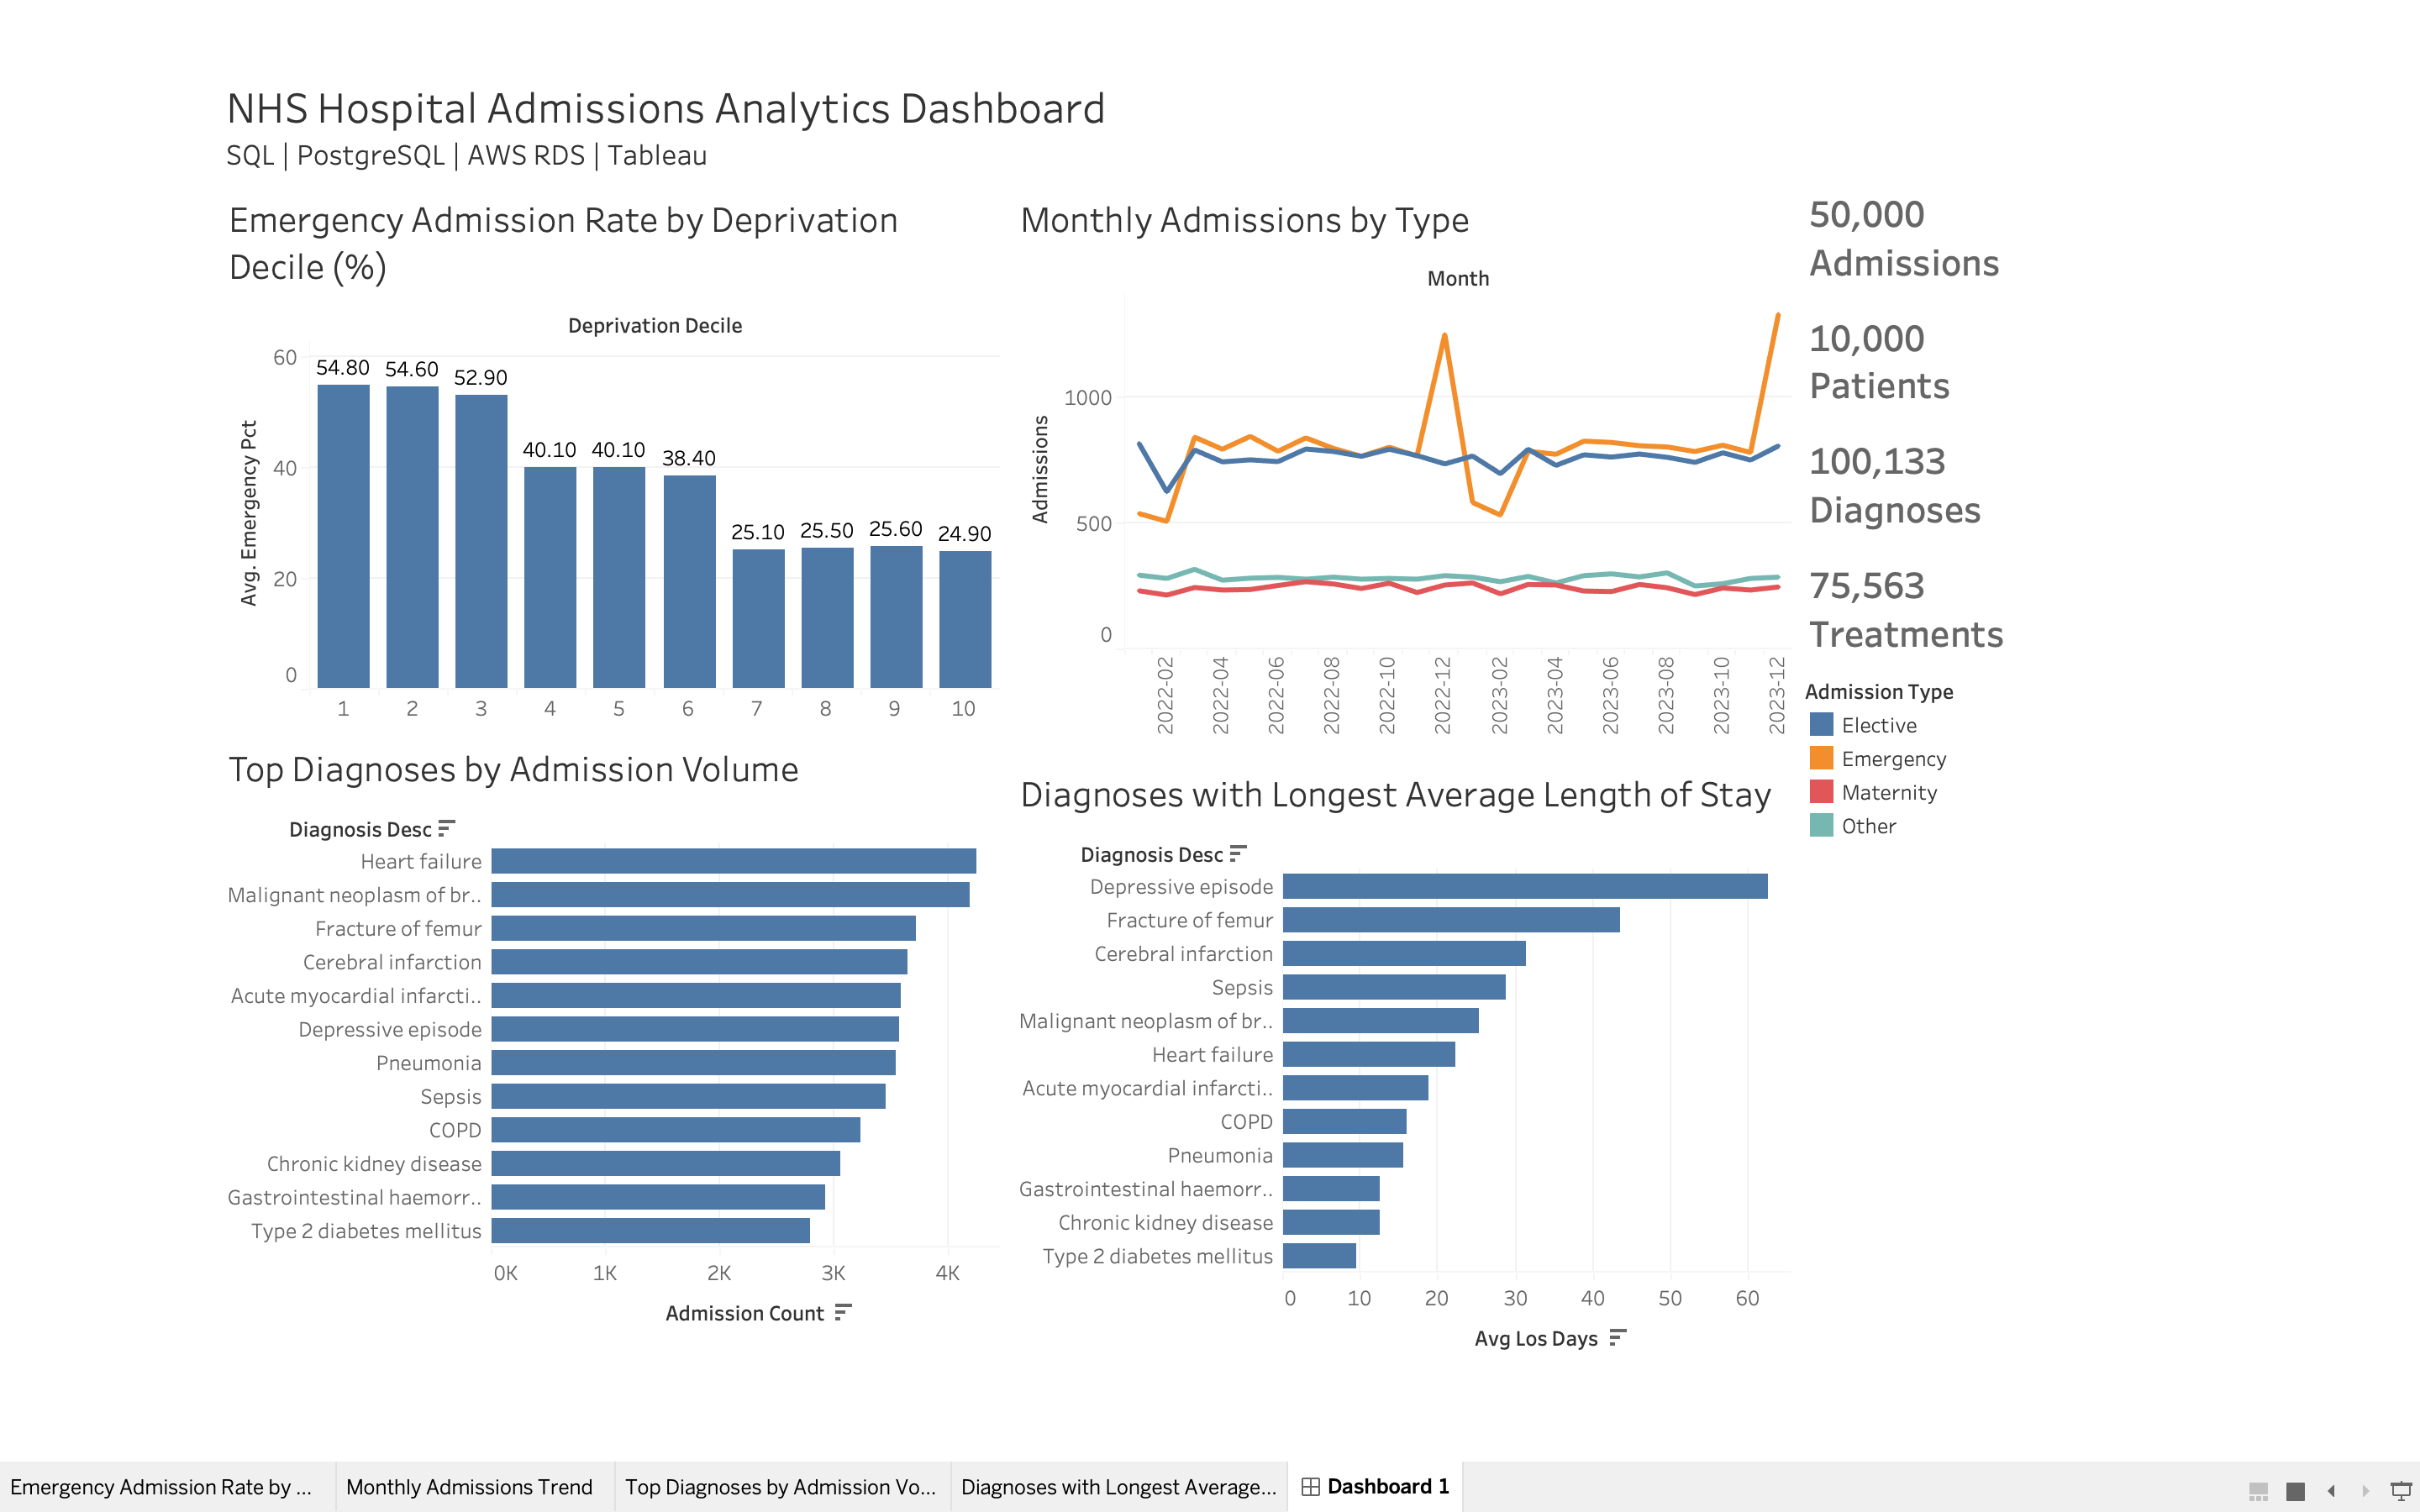

The page's visual inventory and layout, read from the dashboard file:
{"tool":"tableau","page":{"name":"Dashboard 1","canvas":[1200,800],"ordinal":0},"visuals":[{"type":"title","box":[8,8,1184,65]},{"type":"worksheet","title":"Emergency Admission Rate by Deprivation","mark":"Automatic","rows":["emergency_pct"],"cols":["deprivation_decile"],"box":[8,73,471,327]},{"type":"worksheet","title":"Monthly Admissions Trend","mark":"Line","rows":["admissions"],"cols":["month"],"box":[479,73,471,342]},{"type":"text","box":[950,73,242,291]},{"type":"legend","title":"Monthly Admissions Trend","param":"[federated.0rbmrt01y8buld15377vk0c8rx7g].[none:admission_type:nk]","box":[950,364,242,106]},{"type":"worksheet","title":"Top Diagnoses by Admission Volume","mark":"Bar","rows":["diagnosis_desc"],"cols":["admission_count"],"box":[8,400,471,392]},{"type":"worksheet","title":"Diagnoses with Longest Average Length of Stay","mark":"Automatic","rows":["diagnosis_desc"],"cols":["avg_los_days"],"box":[479,415,471,377]}]}

Visuals, with their boxes on the page's 1200x800 design canvas (x1, y1, x2, y2). These are canvas units, not pixel positions in the 2420x1512 screenshot, which may show the page scaled, cropped or inside an application window:
title: locate(8, 8, 1192, 73)
"Emergency Admission Rate by Deprivation" worksheet: locate(8, 73, 479, 400)
"Monthly Admissions Trend" worksheet (Line marks): locate(479, 73, 950, 415)
text: locate(950, 73, 1192, 364)
"Monthly Admissions Trend" legend: locate(950, 364, 1192, 470)
"Top Diagnoses by Admission Volume" worksheet (Bar marks): locate(8, 400, 479, 792)
"Diagnoses with Longest Average Length of Stay" worksheet: locate(479, 415, 950, 792)
